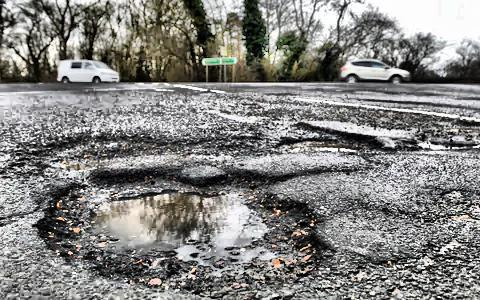pothole: (32, 157, 338, 292), (274, 125, 379, 160)
